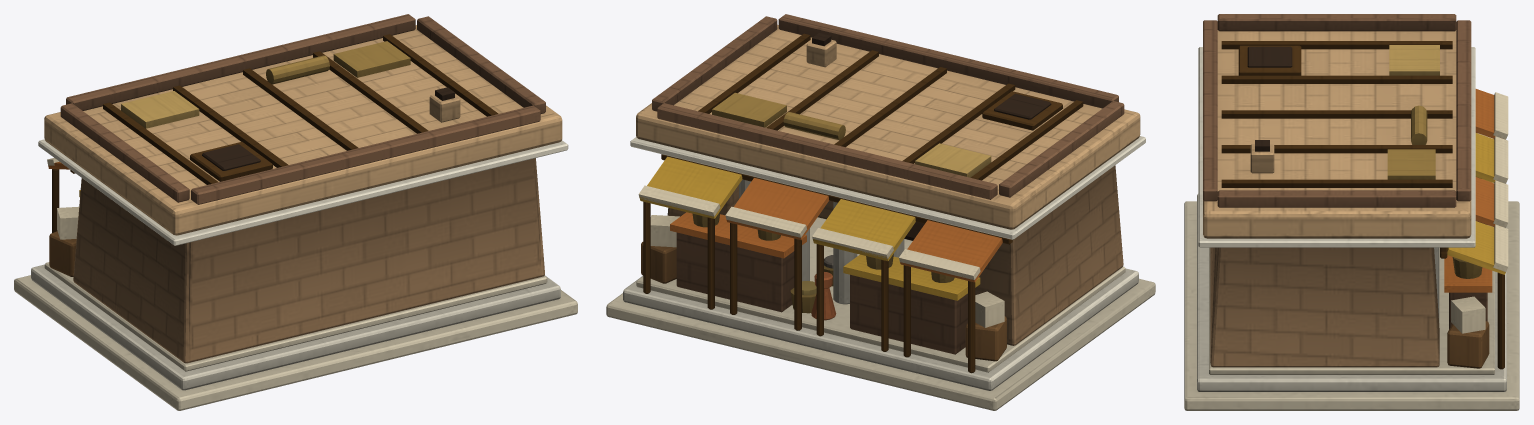
File: market.glb
3 renders of one model, left to right at view 1: azimuth 30°, elevation 25°; view 2: azimuth 150°, elevation 25°; view 3: azimuth 270°, elevation 25°, orthographic. The views are drawn at different scales.
Visible parts, largest first — view 1: market_mud_terra, market_mud_tan, market_mud_dark, market_stone_pale, market_stone_white, market_wood_dark, market_thatch_dark, market_thatch_mat, market_door_dark, market_wood_mid, market_linen_pale; view 2: market_mud_tan, market_mud_dark, market_stone_pale, market_stone_white, market_mud_terra, market_wood_dark, market_cloth_yellow, market_cloth_orange, market_linen_pale, market_thatch_dark, market_wood_mid, market_thatch_mat (+2 smaller); view 3: market_mud_tan, market_mud_terra, market_stone_pale, market_mud_dark, market_stone_white, market_wood_dark, market_linen_pale, market_cloth_orange, market_thatch_dark, market_cloth_yellow, market_wood_mid, market_thatch_mat (+1 smaller).
Boxes of the visible parts, bbox=[...] form: market_mud_terra: bbox=[73, 158, 544, 363]; market_mud_tan: bbox=[44, 25, 562, 235]; market_mud_dark: bbox=[60, 14, 545, 204]; market_stone_pale: bbox=[14, 262, 577, 410]; market_stone_white: bbox=[31, 139, 568, 390]; market_wood_dark: bbox=[52, 34, 498, 232]; market_thatch_dark: bbox=[266, 41, 410, 84]; market_thatch_mat: bbox=[121, 91, 199, 128]; market_door_dark: bbox=[202, 87, 454, 170]; market_wood_mid: bbox=[49, 231, 76, 276]; market_linen_pale: bbox=[47, 158, 79, 239]; market_mud_tan: bbox=[636, 24, 1140, 229]; market_mud_dark: bbox=[652, 14, 1124, 354]; market_stone_pale: bbox=[606, 217, 1155, 410]; market_stone_white: bbox=[623, 136, 1145, 390]; market_mud_terra: bbox=[667, 165, 1123, 345]; market_wood_dark: bbox=[643, 33, 1083, 373]; market_cloth_yellow: bbox=[639, 156, 980, 300]; market_cloth_orange: bbox=[670, 178, 1002, 282]; market_linen_pale: bbox=[638, 185, 1004, 327]; market_thatch_dark: bbox=[692, 92, 954, 313]; market_wood_mid: bbox=[641, 242, 1006, 361]; market_thatch_mat: bbox=[915, 143, 991, 177]; market_mud_tan: bbox=[1203, 30, 1471, 238]; market_mud_terra: bbox=[1210, 247, 1439, 367]; market_stone_pale: bbox=[1184, 201, 1519, 410]; market_mud_dark: bbox=[1203, 14, 1487, 329]; market_stone_white: bbox=[1197, 47, 1506, 391]; market_wood_dark: bbox=[1221, 41, 1504, 369]; market_linen_pale: bbox=[1451, 92, 1508, 333]; market_cloth_orange: bbox=[1444, 89, 1495, 292]; market_thatch_dark: bbox=[1387, 105, 1482, 278]; market_cloth_yellow: bbox=[1447, 133, 1505, 274]; market_wood_mid: bbox=[1447, 321, 1489, 368]; market_thatch_mat: bbox=[1389, 45, 1439, 75].
Bounding box in the file's own units: 3.15 × 1.64 × 2.25.
17 materials, 16 textured.
